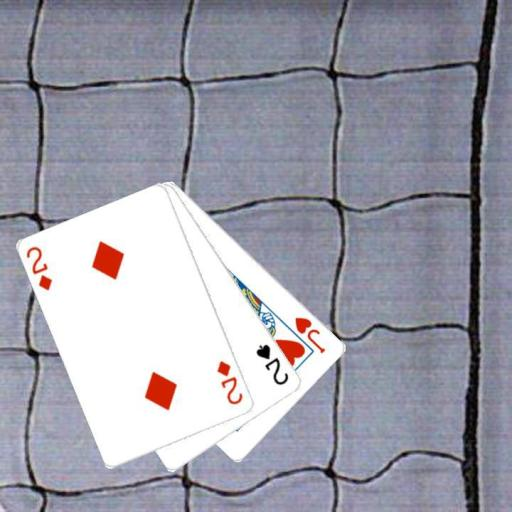2D: (23, 243, 55, 292), (214, 358, 245, 407)
2S: (253, 341, 291, 387)
JH: (291, 314, 328, 355)
